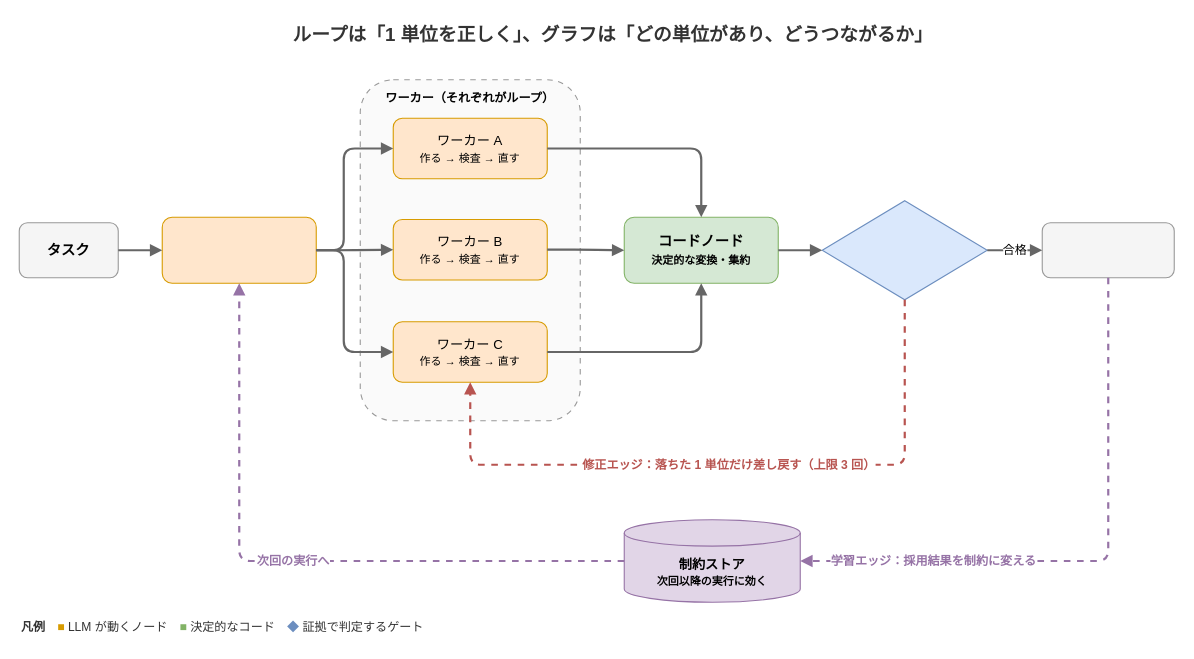
This 1194x659 diagram has some shape labels left out. The shapes that lost their labels are listed below. From the top down, each one's box as (x1, y1, x2, y2) in pixels, then its label:
(161, 216, 316, 283): スプリッター 仕事を単位に分ける
(821, 200, 987, 300): ゲート 影響範囲で判定
(1041, 222, 1174, 278): 採用・反映
